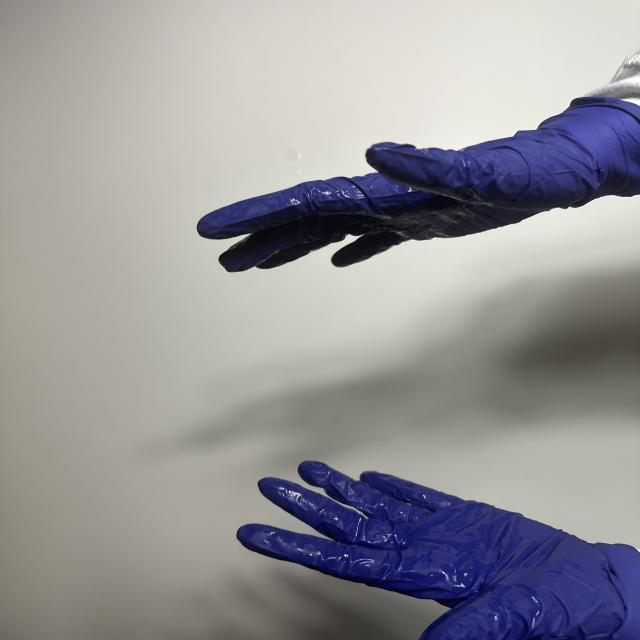gloves_contaminated: (198, 89, 640, 272), (237, 461, 640, 640)
